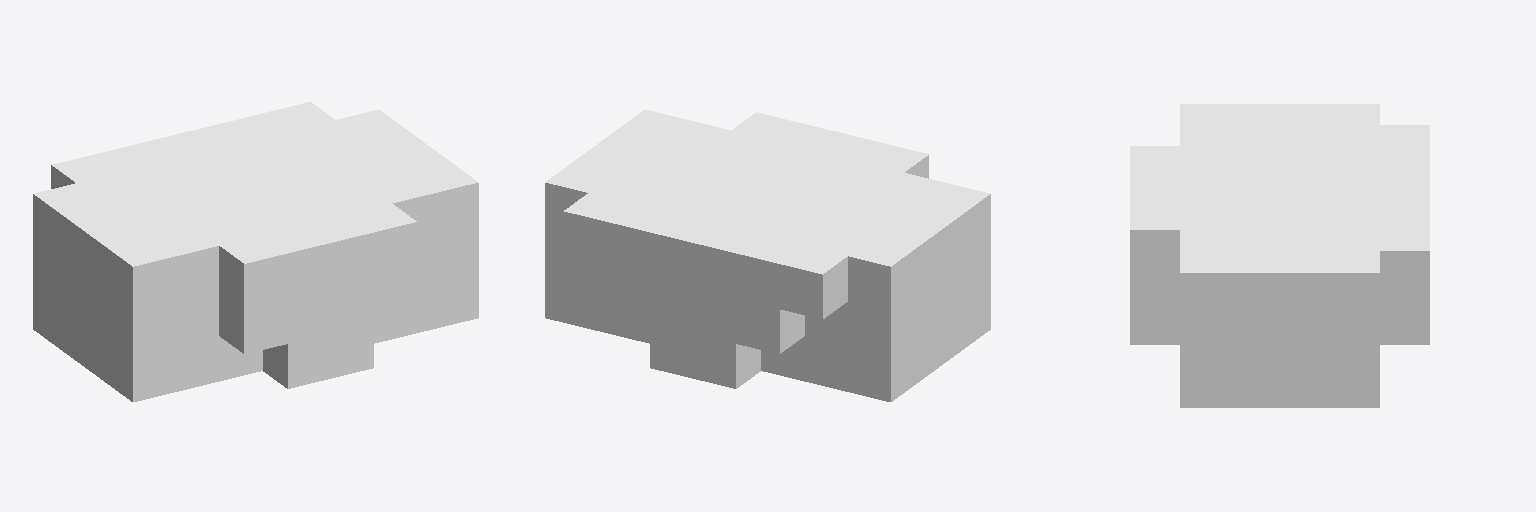
File: gladiator-3.obj
3 views of the same model, side by side, from view 1: azimuth 30°, elevation 25°; view 2: azimuth 150°, elevation 25°; view 3: azimuth 270°, elevation 25° (orthographic).
Visible parts, largest first — view 1: object 1; view 2: object 1; view 3: object 1.
Boxes of the visible parts, <box> form: object 1: <box>33,102,478,401</box>; object 1: <box>545,110,990,401</box>; object 1: <box>1130,104,1429,407</box>.
Size of the model in its own units: 0.8 by 0.3 by 0.6.